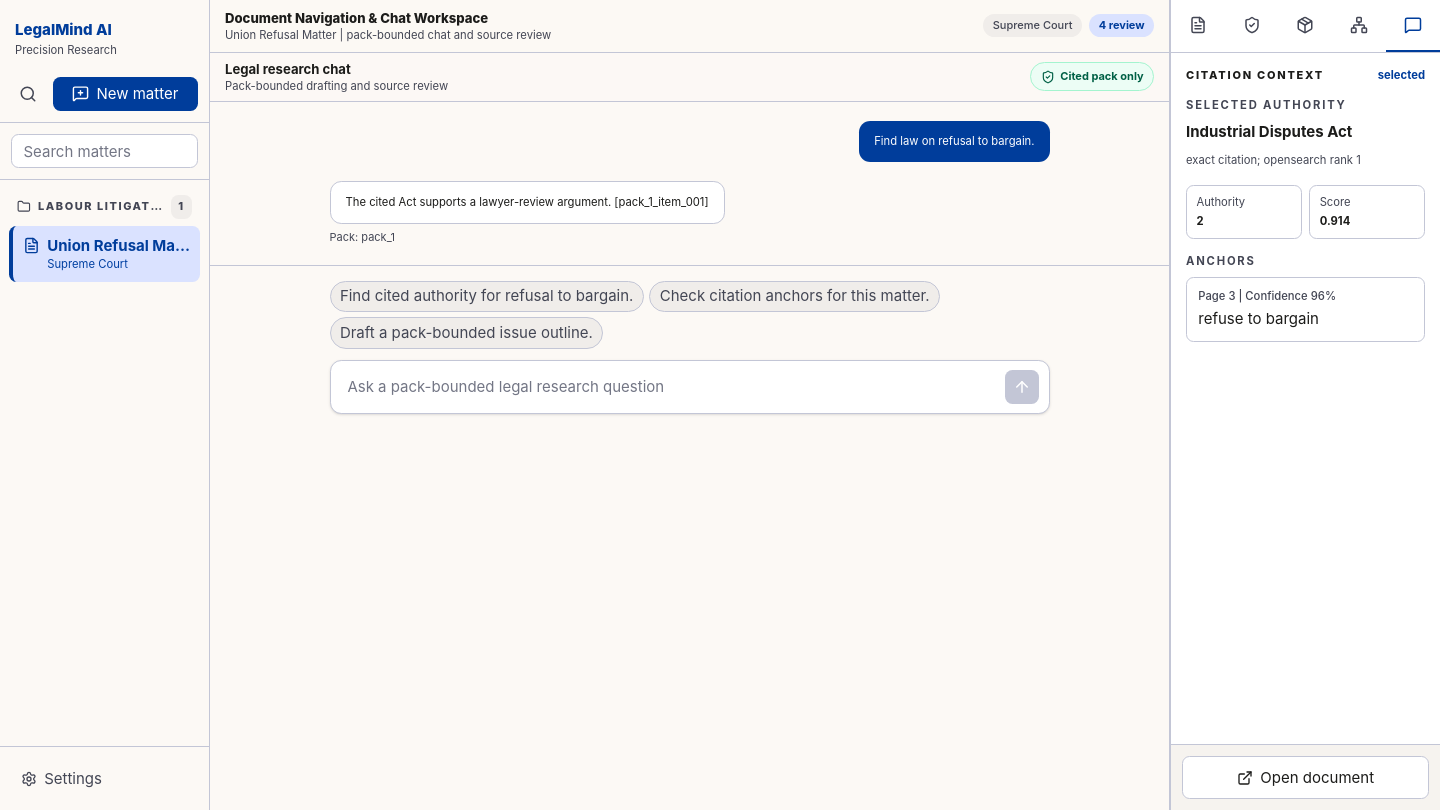
Test: CaseWorkspace › opens reasoning-pack citations back to the source pack item
Step 1. Click the button named "Reasoning" → (1359, 26), box [1332, 0, 1386, 52]
(page scrolled)
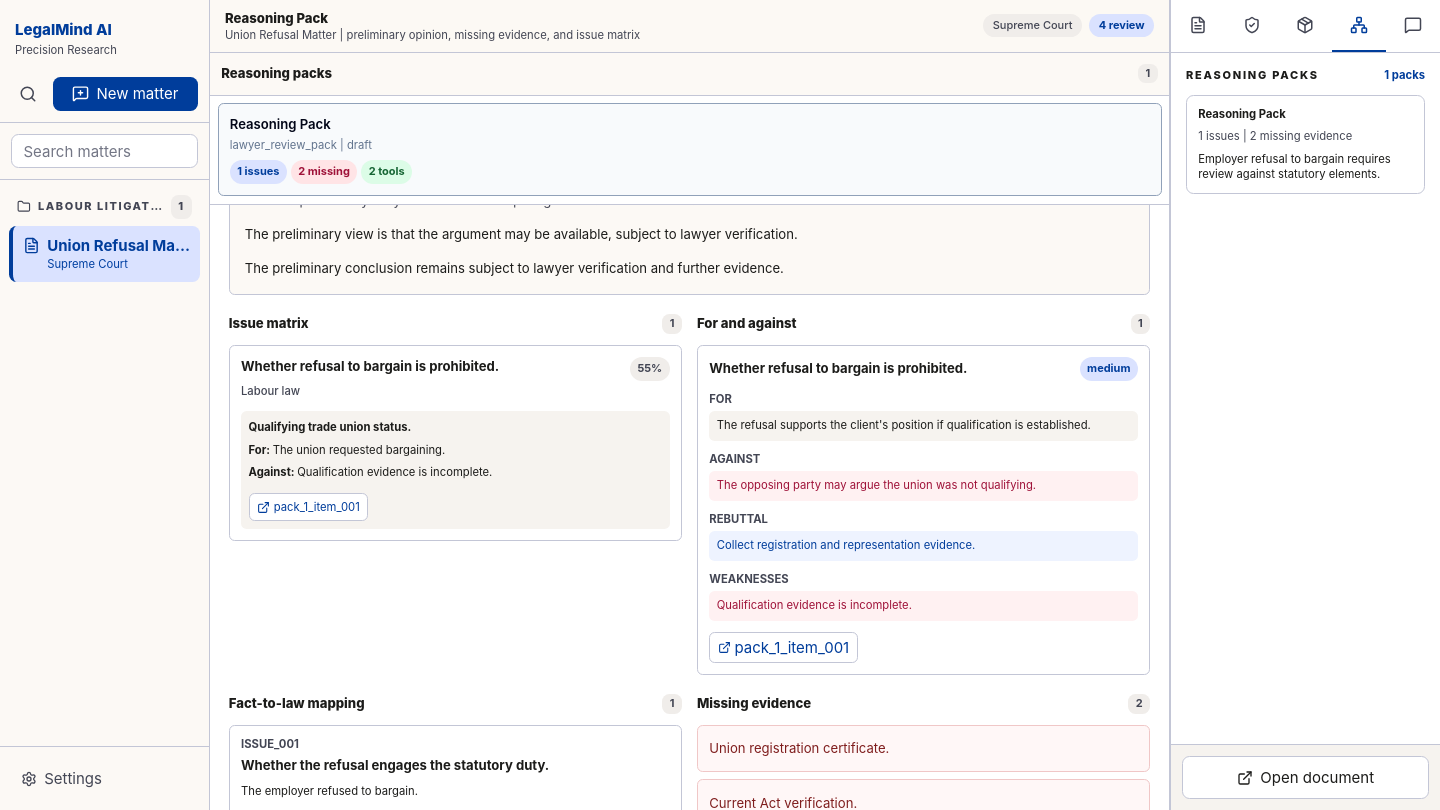
Step 2. Click the button "pack_1_item_001" below "The union requested bargaining." → (308, 507), box [248, 493, 368, 521]
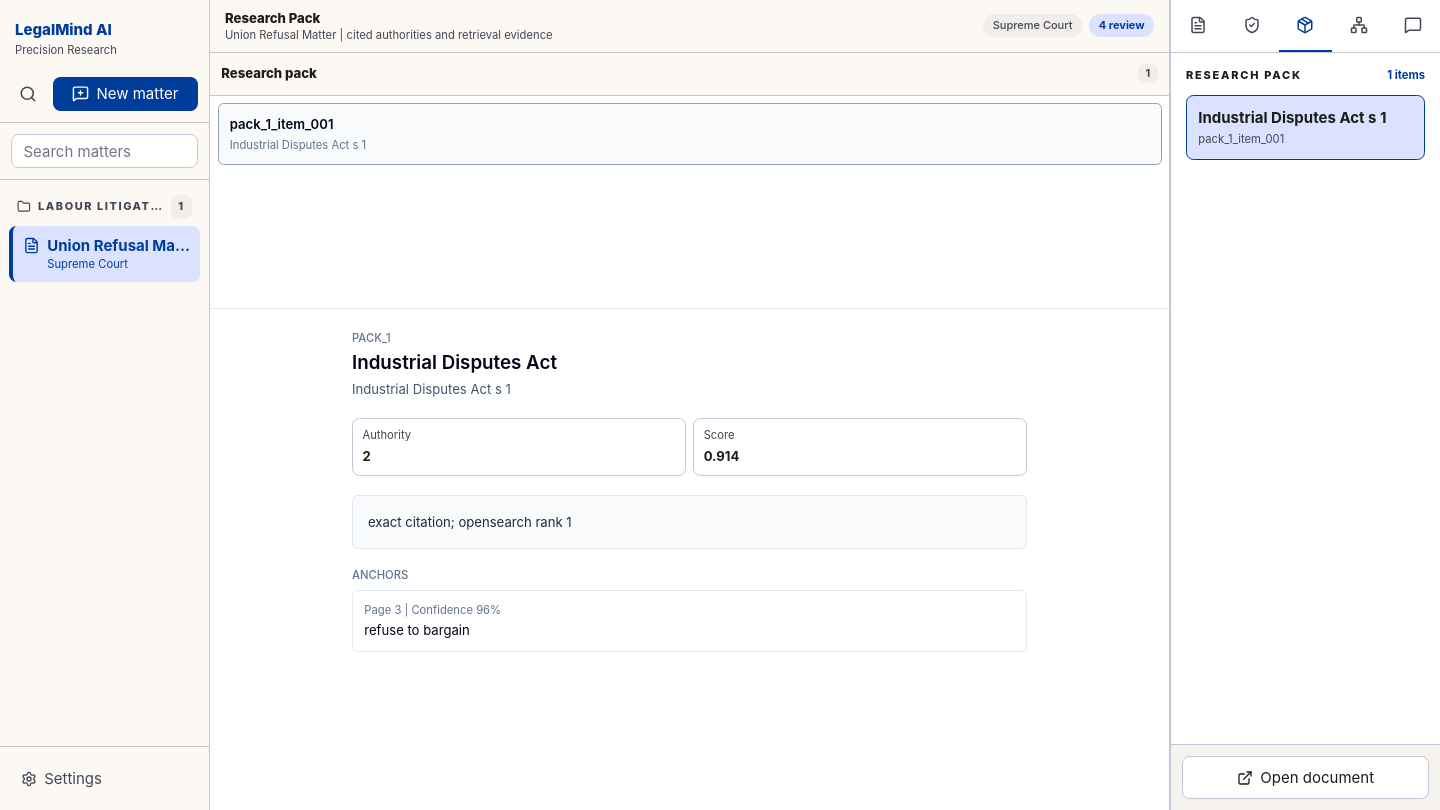
Expected: the element named "Research pack detail" is shown, [210, 309, 1169, 809]
Expected: the 2nd text "Industrial Disputes Act s 1" is shown, [230, 138, 366, 152]
